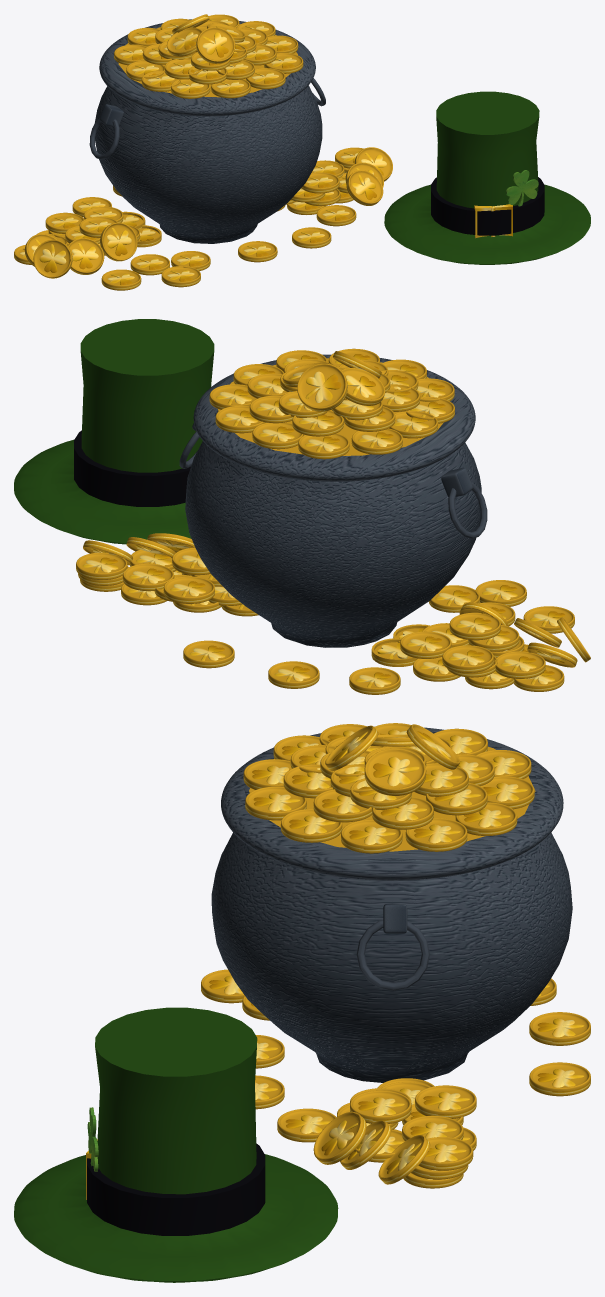
File: pot_of_gold.glb
The picture shows the model from 3 angles, top to bottom: view 1: azimuth 30°, elevation 25°; view 2: azimuth 150°, elevation 25°; view 3: azimuth 270°, elevation 25°; orthographic projection. The views are drawn at different scales.
Parts seen in each view (by area): view 1: Object_72, Object_73, Object_2, Object_4, Object_56, Object_13, Object_14, Object_9, Object_8, Object_57, Object_3, Object_17 (+26 smaller); view 2: Object_72, Object_73, Object_2, Object_59, Object_9, Object_53, Object_56, Object_13, Object_61, Object_58, Object_25, Object_31 (+35 smaller); view 3: Object_72, Object_73, Object_2, Object_14, Object_59, Object_9, Object_4, Object_61, Object_58, Object_31, Object_18, Object_66 (+24 smaller).
Part boxes in pixels (left/top/right/bottom): Object_72: left=89, top=19, right=325, bottom=243; Object_73: left=384, top=91, right=590, bottom=264; Object_2: left=431, top=177, right=544, bottom=235; Object_4: left=68, top=170, right=383, bottom=274; Object_56: left=33, top=27, right=160, bottom=278; Object_13: left=166, top=27, right=277, bottom=262; Object_14: left=196, top=23, right=245, bottom=63; Object_9: left=24, top=147, right=392, bottom=266; Object_8: left=100, top=173, right=348, bottom=261; Object_57: left=72, top=197, right=512, bottom=238; Object_3: left=506, top=170, right=538, bottom=206; Object_17: left=101, top=269, right=141, bottom=290; Object_72: left=179, top=354, right=487, bottom=647; Object_73: left=14, top=319, right=214, bottom=544; Object_2: left=74, top=430, right=190, bottom=506; Object_59: left=209, top=363, right=347, bottom=411; Object_9: left=83, top=537, right=577, bottom=667; Object_53: left=371, top=638, right=460, bottom=681; Object_56: left=298, top=433, right=590, bottom=662; Object_13: left=341, top=368, right=385, bottom=405; Object_61: left=183, top=640, right=234, bottom=668; Object_58: left=268, top=661, right=319, bottom=688; Object_25: left=442, top=645, right=493, bottom=672; Object_31: left=163, top=576, right=214, bottom=603; Object_72: left=211, top=727, right=572, bottom=1082; Object_73: left=14, top=1007, right=338, bottom=1282; Object_2: left=87, top=1143, right=265, bottom=1235; Object_14: left=325, top=725, right=426, bottom=795; Object_59: left=405, top=724, right=467, bottom=851; Object_9: left=340, top=1120, right=430, bottom=1184; Object_4: left=313, top=1111, right=366, bottom=1164; Object_61: left=529, top=1062, right=590, bottom=1096; Object_58: left=529, top=1012, right=590, bottom=1045; Object_31: left=415, top=1085, right=476, bottom=1118; Object_18: left=350, top=1090, right=411, bottom=1123; Object_66: left=341, top=819, right=402, bottom=853.
Size of the model in its own units: 6.8 by 2.76 by 4.43.
Materials: 5 (5 with a texture image).
